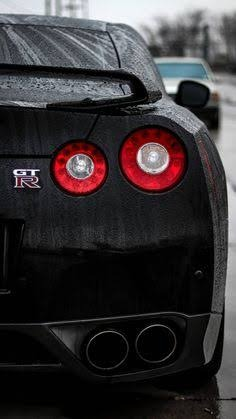car: (1, 9, 228, 405), (157, 60, 225, 129), (156, 59, 215, 103)
